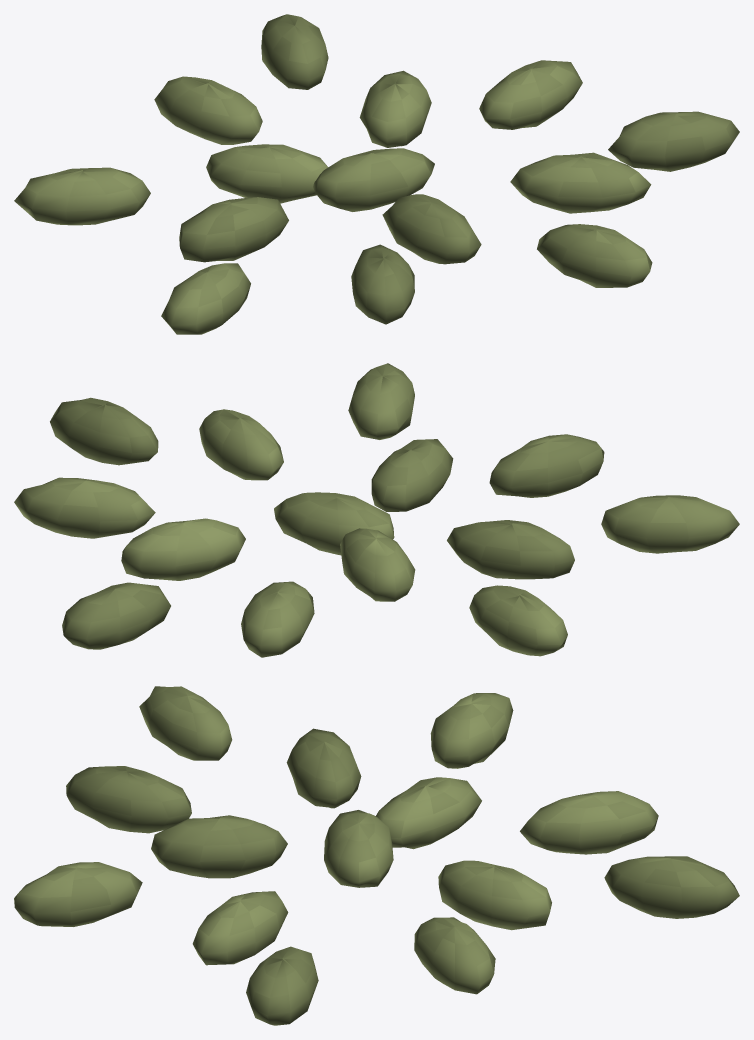
File: Cardamom.glb
3 views of the same model, one above another, from view 1: azimuth 30°, elevation 25°; view 2: azimuth 150°, elevation 25°; view 3: azimuth 270°, elevation 25° (orthographic). The views are drawn at different scales.
Parts seen in each view (by area): view 1: Cardamom; view 2: Cardamom; view 3: Cardamom.
Part boxes in pixels (<box>): Cardamom: <box>14,14,739,334</box>; Cardamom: <box>14,363,739,657</box>; Cardamom: <box>14,686,739,1025</box>.
Size of what is drawn, in the model's own units: 0.0739 by 0.00618 by 0.0711.
